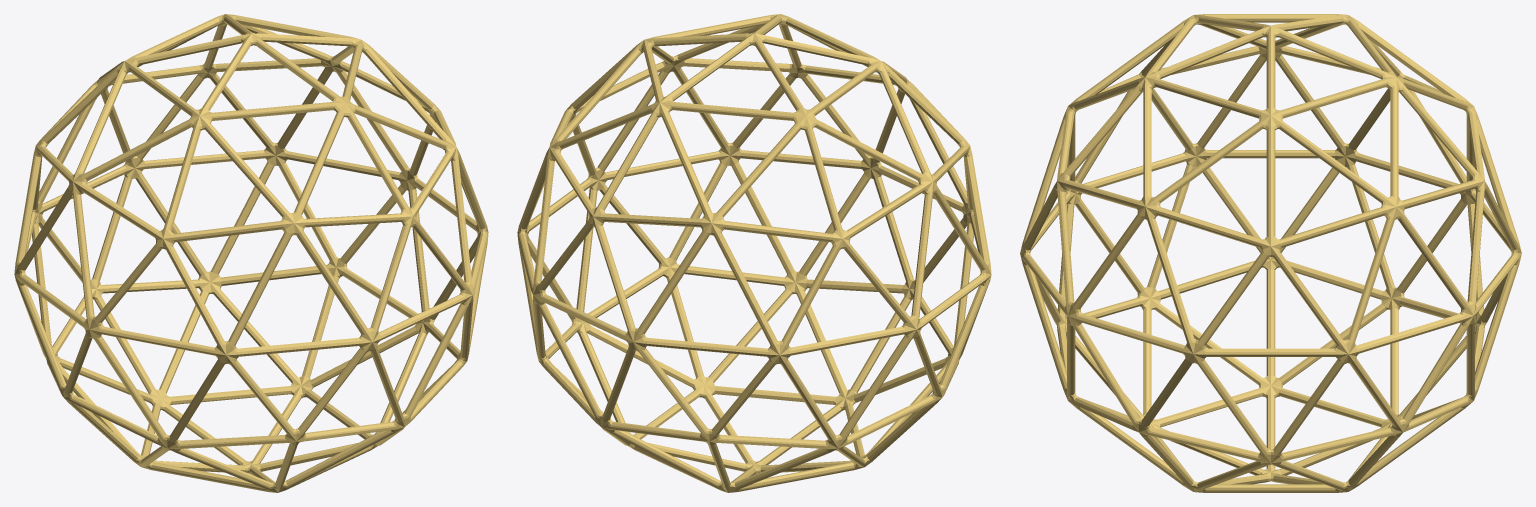
The model's file is ff360_core.glb.
The picture shows the model from 3 angles, left to right: view 1: azimuth 30°, elevation 25°; view 2: azimuth 150°, elevation 25°; view 3: azimuth 270°, elevation 25°; orthographic projection. The views are drawn at different scales.
Visible parts, largest first — view 1: Icosphere; view 2: Icosphere; view 3: Icosphere.
Boxes of the visible parts, bbox=[...] form: Icosphere: bbox=[14, 14, 488, 492]; Icosphere: bbox=[517, 14, 991, 492]; Icosphere: bbox=[1020, 14, 1521, 492].
Size of the model in its own units: 1.94 by 2.03 by 2.03.
